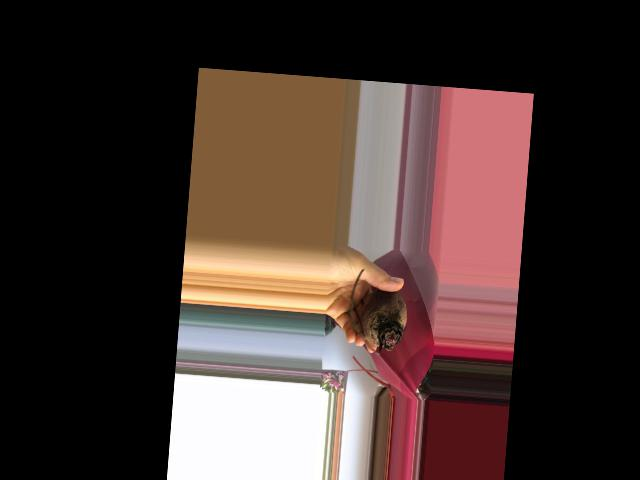beet: (346, 268, 410, 357)
